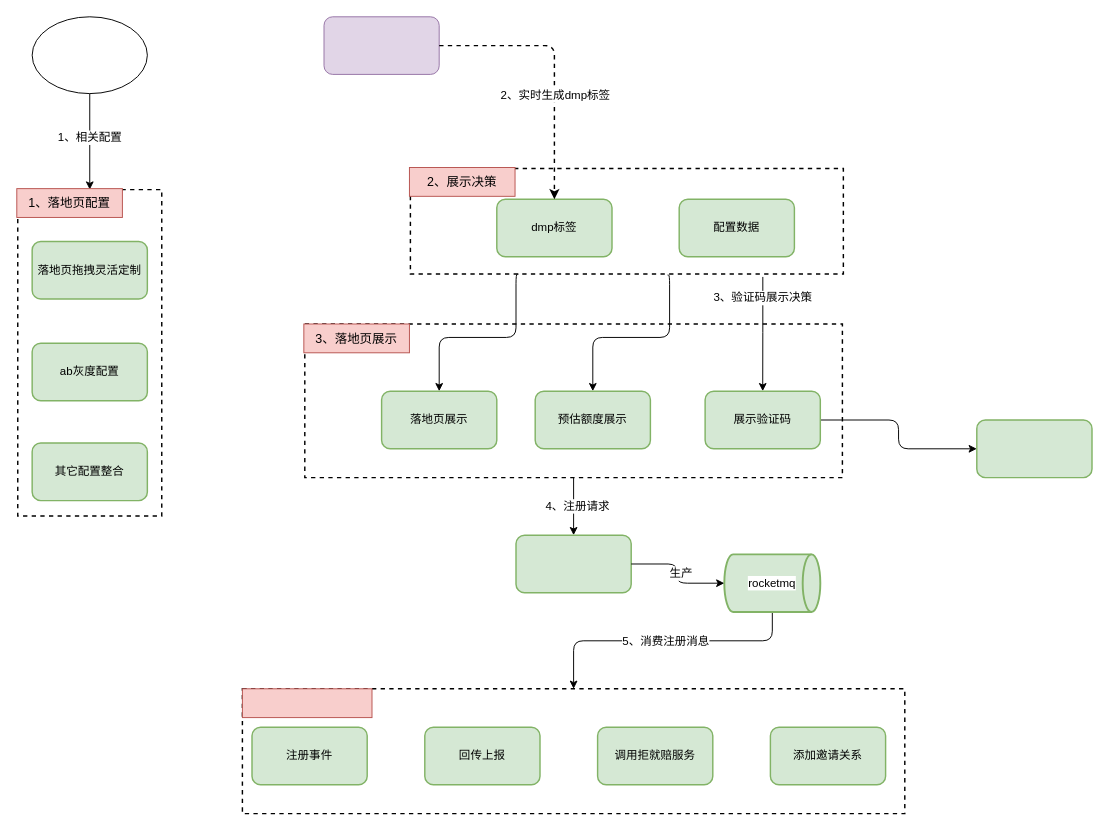
Image size: 1110x831. Some labels were removed from this diagram. Each missing label, with the centre of its shape:
4、异步处理注册事件: (x=306, y=703)
start: (x=89, y=55)
展示自有、易盾人机校验验证码: (x=1034, y=448)
广告行为监测服务: (x=381, y=45)
用户注册: (x=573, y=563)
